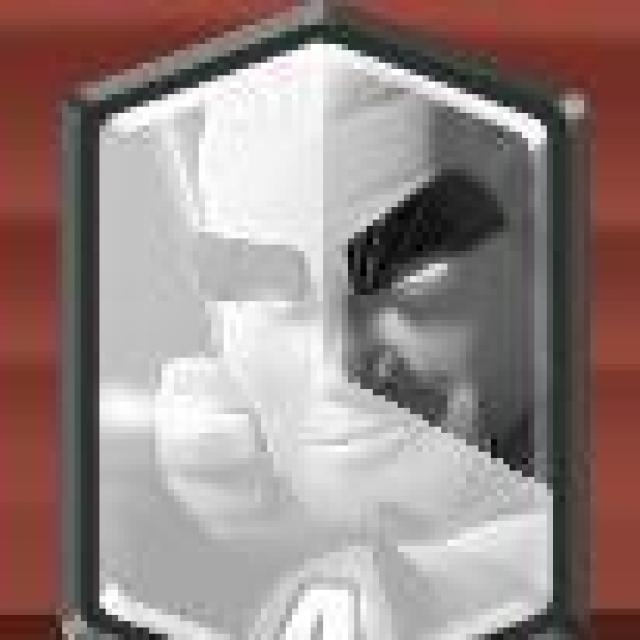Magic_Archer: (72, 16, 577, 640)
